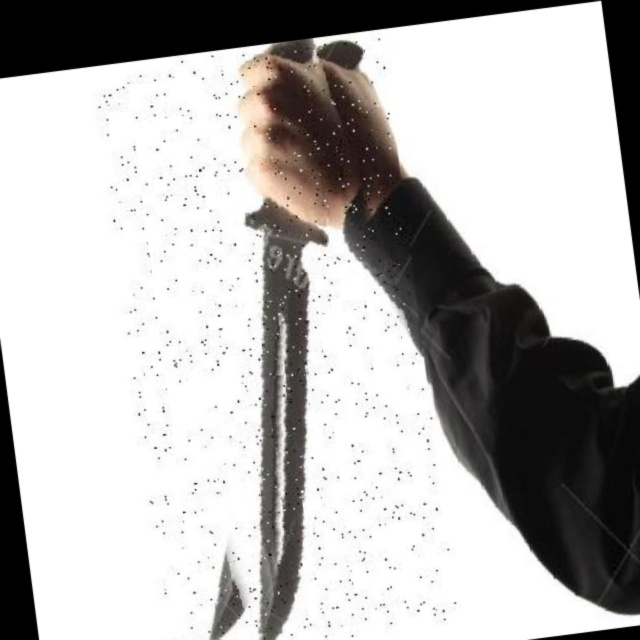Sharp-Object: (93, 29, 459, 640)
